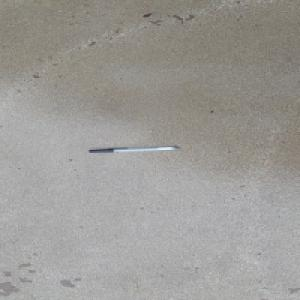Pen: (88, 145, 180, 153)
